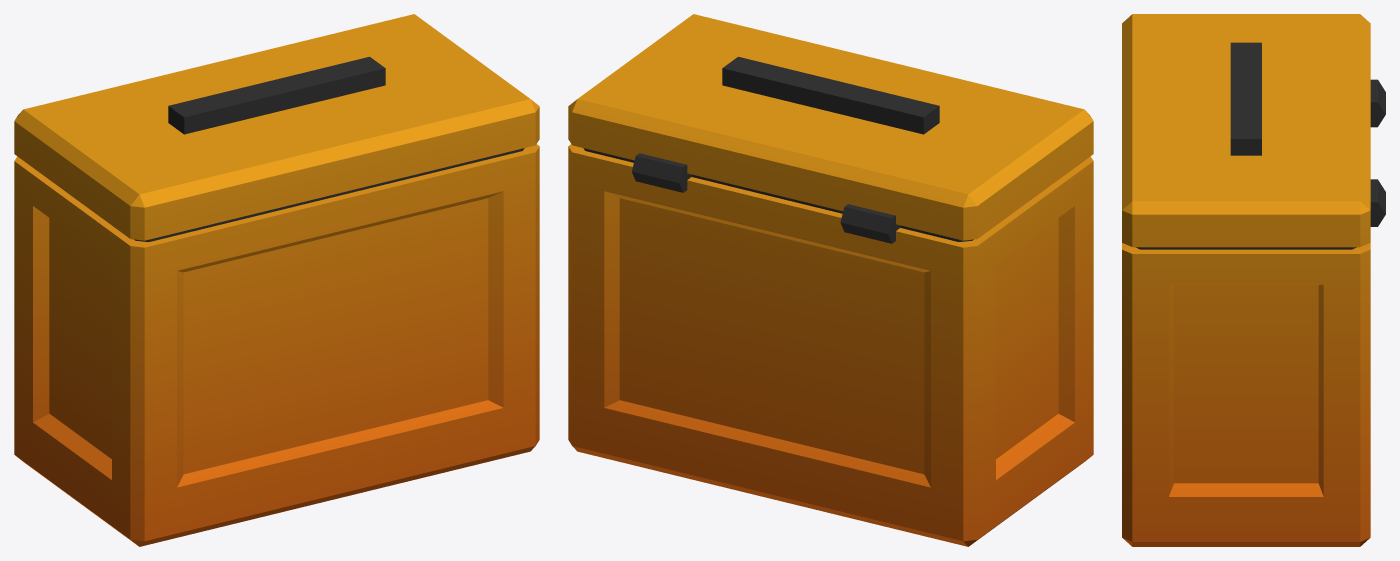
Rendered from AmoBox_09.fbx.
3 views of the same model, side by side, from view 1: azimuth 30°, elevation 25°; view 2: azimuth 150°, elevation 25°; view 3: azimuth 270°, elevation 25° (orthographic).
Visible parts, largest first — view 1: AmoBox_09; view 2: AmoBox_09; view 3: AmoBox_09.
Boxes of the visible parts, x1,y1,x2,y2 form: AmoBox_09: [14, 14, 539, 546]; AmoBox_09: [568, 14, 1093, 546]; AmoBox_09: [1122, 14, 1385, 546].
Bounding box in the file's own units: 0.3506 × 0.3027 × 0.1995.
